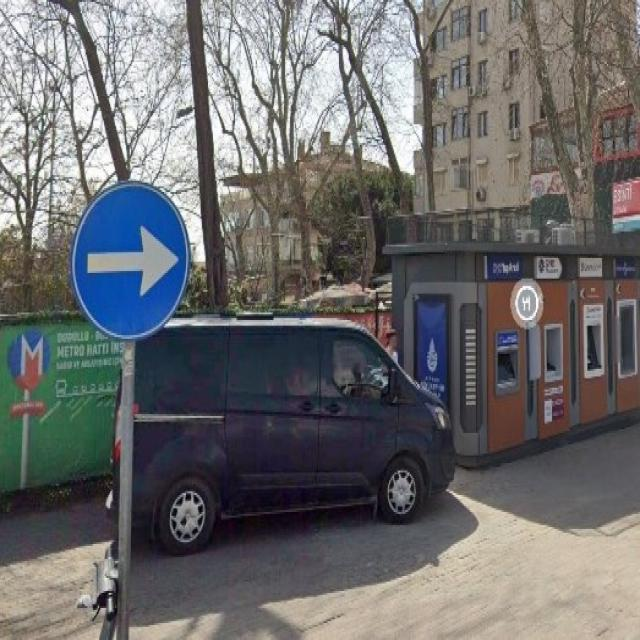Turn Right: (76, 186, 192, 344)
